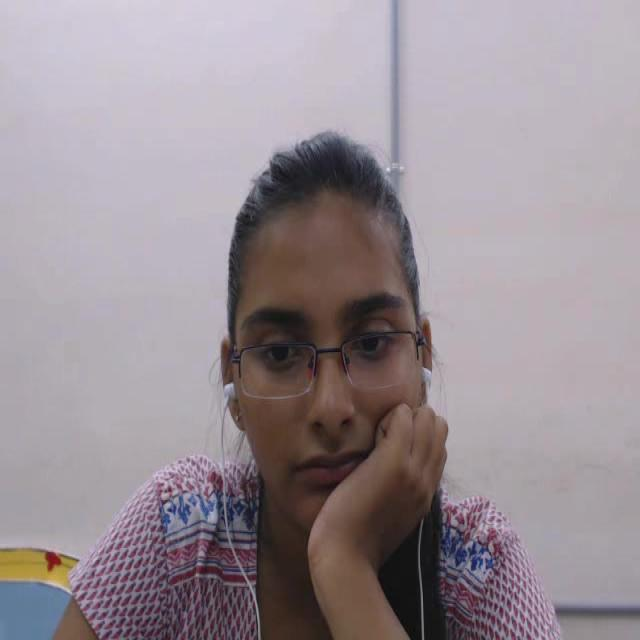Bored: (200, 119, 449, 576)
